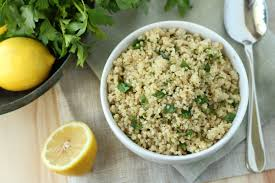Lemon: (1, 39, 50, 84)
